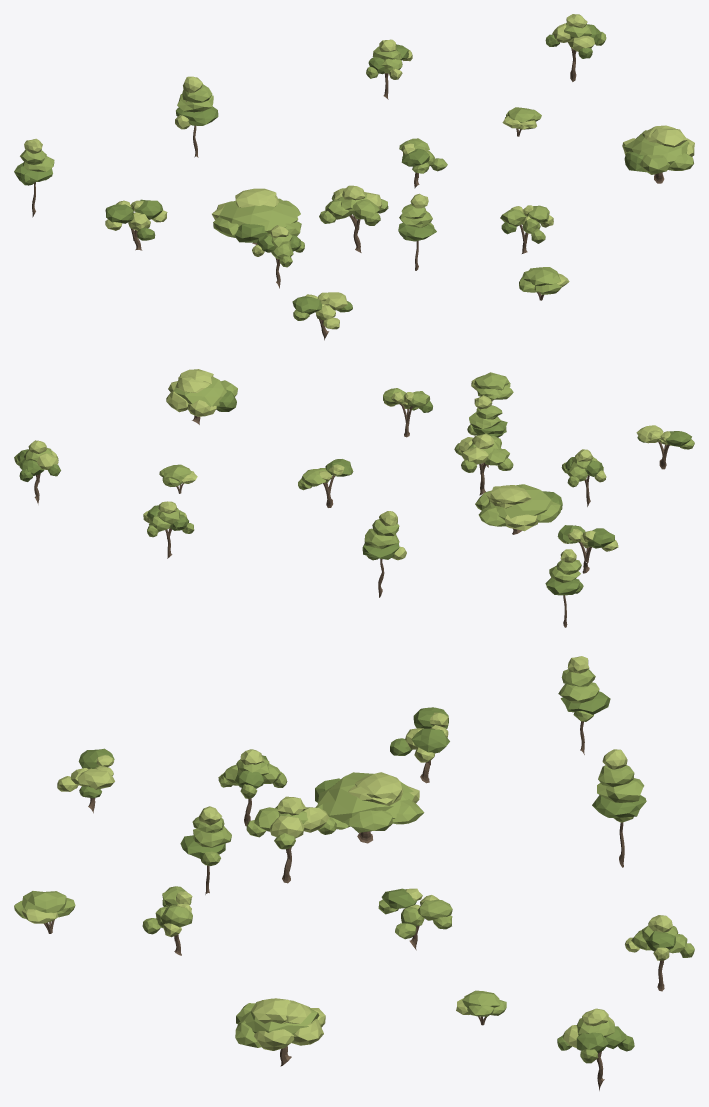
File: entorno_arboles.glb
3 views of the same model, one above another, from view 1: azimuth 30°, elevation 25°; view 2: azimuth 150°, elevation 25°; view 3: azimuth 270°, elevation 25° (orthographic). The views are drawn at different scales.
Visible parts, largest first — view 1: Algarrobo_02_Cupula_densa_hojas, Algarrobo_10_Cupula_densa_hojas, Algarrobo_01_Ovalado_de_pampa_hojas, Algarrobo_09_Bifurcado_abierto_hojas, Algarrobo_07_Alto_y_esbelto_hojas, Algarrobo_13_Ovalado_de_pampa_hojas, Algarrobo_14_Bifurcado_abierto_hojas, Algarrobo_04_Bifurcado_abierto_hojas, Algarrobo_03_Alto_y_esbelto_hojas, Algarrobo_12_Alto_y_esbelto_hojas, Algarrobo_08_Ovalado_de_pampa_hojas, Algarrobo_05_Ovalado_de_pampa_hojas (+3 smaller); view 2: Algarrobo_02_Cupula_densa_hojas, Algarrobo_10_Cupula_densa_hojas, Algarrobo_01_Ovalado_de_pampa_hojas, Algarrobo_07_Alto_y_esbelto_hojas, Algarrobo_13_Ovalado_de_pampa_hojas, Algarrobo_12_Alto_y_esbelto_hojas, Algarrobo_08_Ovalado_de_pampa_hojas, Algarrobo_03_Alto_y_esbelto_hojas, Algarrobo_09_Bifurcado_abierto_hojas, Algarrobo_05_Ovalado_de_pampa_hojas, Algarrobo_15_Bifurcado_abierto_hojas, Algarrobo_14_Bifurcado_abierto_hojas (+3 smaller); view 3: Algarrobo_02_Cupula_densa_hojas, Algarrobo_10_Cupula_densa_hojas, Algarrobo_01_Ovalado_de_pampa_hojas, Algarrobo_07_Alto_y_esbelto_hojas, Algarrobo_13_Ovalado_de_pampa_hojas, Algarrobo_15_Bifurcado_abierto_hojas, Algarrobo_09_Bifurcado_abierto_hojas, Algarrobo_12_Alto_y_esbelto_hojas, Algarrobo_05_Ovalado_de_pampa_hojas, Algarrobo_03_Alto_y_esbelto_hojas, Algarrobo_08_Ovalado_de_pampa_hojas, Algarrobo_14_Bifurcado_abierto_hojas (+3 smaller).
Part boxes in pixels (box(x1,y1,x2,y2)): Algarrobo_02_Cupula_densa_hojas: box(212, 188, 301, 242); Algarrobo_10_Cupula_densa_hojas: box(622, 125, 694, 174); Algarrobo_01_Ovalado_de_pampa_hojas: box(319, 185, 388, 225); Algarrobo_09_Bifurcado_abierto_hojas: box(105, 199, 167, 240); Algarrobo_07_Alto_y_esbelto_hojas: box(175, 76, 218, 129); Algarrobo_13_Ovalado_de_pampa_hojas: box(545, 14, 606, 58); Algarrobo_14_Bifurcado_abierto_hojas: box(292, 292, 352, 329); Algarrobo_04_Bifurcado_abierto_hojas: box(500, 205, 553, 243); Algarrobo_03_Alto_y_esbelto_hojas: box(398, 193, 436, 241); Algarrobo_12_Alto_y_esbelto_hojas: box(14, 138, 54, 185); Algarrobo_08_Ovalado_de_pampa_hojas: box(366, 39, 412, 79); Algarrobo_05_Ovalado_de_pampa_hojas: box(252, 225, 304, 267); Algarrobo_02_Cupula_densa_hojas: box(475, 484, 562, 531); Algarrobo_10_Cupula_densa_hojas: box(166, 369, 237, 416); Algarrobo_01_Ovalado_de_pampa_hojas: box(454, 433, 513, 472); Algarrobo_07_Alto_y_esbelto_hojas: box(362, 511, 406, 560); Algarrobo_13_Ovalado_de_pampa_hojas: box(14, 440, 60, 481); Algarrobo_12_Alto_y_esbelto_hojas: box(545, 549, 583, 595); Algarrobo_08_Ovalado_de_pampa_hojas: box(143, 501, 194, 537); Algarrobo_03_Alto_y_esbelto_hojas: box(467, 395, 507, 437); Algarrobo_09_Bifurcado_abierto_hojas: box(557, 525, 618, 551); Algarrobo_05_Ovalado_de_pampa_hojas: box(561, 449, 606, 487); Algarrobo_15_Bifurcado_abierto_hojas: box(298, 459, 353, 490); Algarrobo_14_Bifurcado_abierto_hojas: box(636, 425, 694, 449); Algarrobo_02_Cupula_densa_hojas: box(315, 772, 424, 832); Algarrobo_10_Cupula_densa_hojas: box(235, 998, 325, 1050); Algarrobo_01_Ovalado_de_pampa_hojas: box(246, 796, 336, 849); Algarrobo_07_Alto_y_esbelto_hojas: box(592, 749, 646, 822); Algarrobo_13_Ovalado_de_pampa_hojas: box(557, 1008, 634, 1063); Algarrobo_15_Bifurcado_abierto_hojas: box(378, 888, 452, 939); Algarrobo_09_Bifurcado_abierto_hojas: box(390, 707, 449, 762); Algarrobo_12_Alto_y_esbelto_hojas: box(558, 656, 610, 721); Algarrobo_05_Ovalado_de_pampa_hojas: box(218, 749, 287, 798); Algarrobo_03_Alto_y_esbelto_hojas: box(180, 806, 231, 865); Algarrobo_08_Ovalado_de_pampa_hojas: box(625, 915, 694, 960); Algarrobo_14_Bifurcado_abierto_hojas: box(57, 748, 114, 798).
Bounding box in the file's own units: 86.26 × 12.89 × 69.14.
